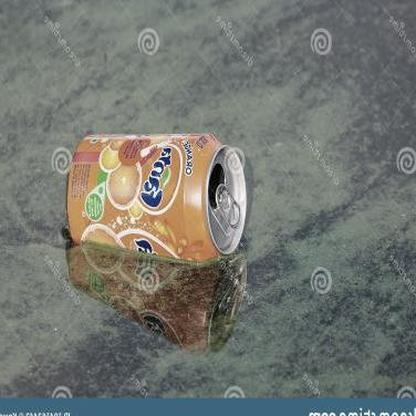can: (65, 130, 250, 261)
